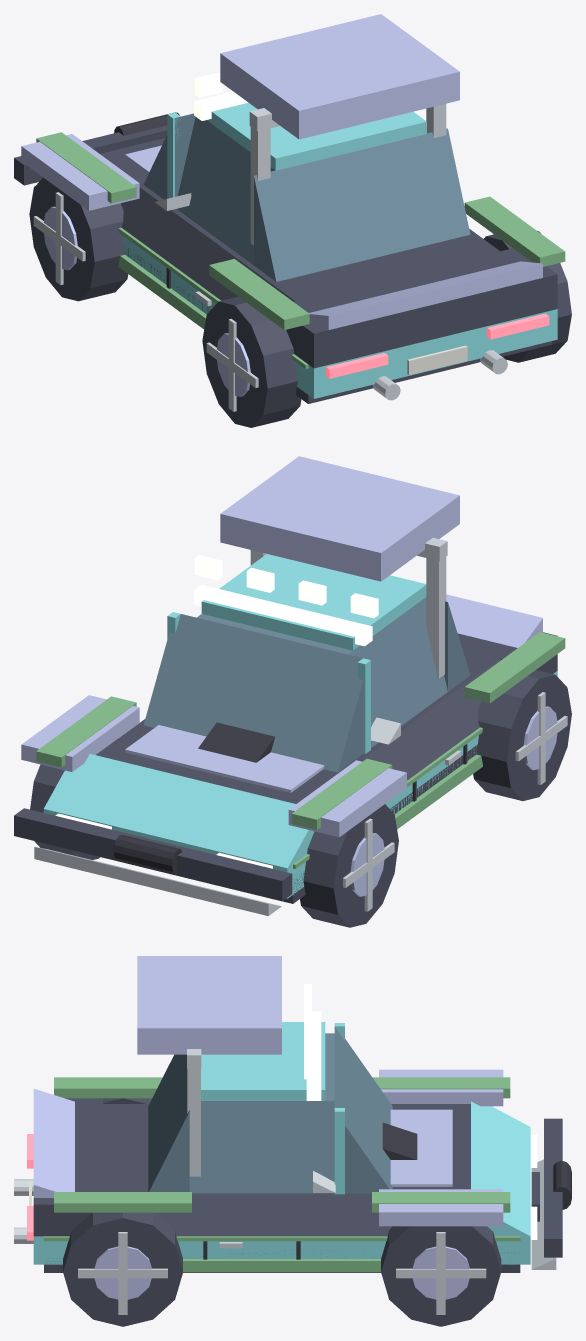
The model's file is stormtrail_x.glb.
3 views of the same model, one above another, from view 1: azimuth 30°, elevation 25°; view 2: azimuth 150°, elevation 25°; view 3: azimuth 270°, elevation 25° (orthographic). The views are drawn at different scales.
Visible parts, largest first — view 1: RearWindow.176, RoofTent.024, Tail.076, Wheel_RL.236, CabinSideL.073, Body.276, BodyUpper.073, Wheel_FL.236, Roof.276, ShoulderL.073, Ducktail.056, Fender-1.069 (+25 smaller); view 2: Windshield.176, RoofTent.024, Nose.073, Roof.276, Wheel_RL.236, BashBar.069, CabinSideL.073, Wheel_FL.236, Hood.272, ShoulderL.073, BodyUpper.073, Bumper.272 (+29 smaller); view 3: RoofTent.024, CabinSideR.073, ShoulderR.073, Wheel_RR.236, Wheel_FR.236, BodyUpper.073, Windshield.176, Roof.276, Nose.073, Body.276, RearWindow.176, Tail.076 (+25 smaller).
Boxes of the visible parts, x1,y1,x2,y2 form: RearWindow.176: [254, 128, 470, 281]; RoofTent.024: [220, 14, 459, 139]; Tail.076: [286, 248, 557, 368]; Wheel_RL.236: [202, 296, 301, 427]; CabinSideL.073: [177, 117, 274, 265]; Body.276: [122, 235, 557, 398]; BodyUpper.073: [100, 138, 499, 301]; Wheel_FL.236: [29, 177, 128, 301]; Roof.276: [207, 102, 426, 170]; ShoulderL.073: [121, 187, 294, 301]; Ducktail.056: [309, 261, 542, 329]; Fender-1.069: [21, 134, 139, 210]; Windshield.176: [143, 614, 363, 772]; RoofTent.024: [220, 456, 459, 581]; Nose.073: [44, 754, 314, 868]; Roof.276: [201, 554, 426, 650]; Wheel_RL.236: [473, 670, 571, 800]; BashBar.069: [14, 808, 292, 901]; CabinSideL.073: [348, 597, 447, 747]; Wheel_FL.236: [300, 804, 398, 927]; Hood.272: [125, 725, 324, 792]; ShoulderL.073: [360, 659, 500, 780]; BodyUpper.073: [96, 649, 499, 803]; Bumper.272: [34, 847, 281, 915]; RoofTent.024: [137, 956, 281, 1054]; CabinSideR.073: [189, 1101, 334, 1193]; ShoulderR.073: [158, 1195, 392, 1236]; Wheel_RR.236: [63, 1212, 182, 1326]; Wheel_FR.236: [381, 1226, 501, 1326]; BodyUpper.073: [103, 1104, 470, 1195]; Windshield.176: [334, 1027, 392, 1193]; Roof.276: [201, 1022, 325, 1100]; Nose.073: [471, 1101, 530, 1236]; Body.276: [33, 1236, 530, 1264]; RearWindow.176: [148, 1054, 189, 1191]; Tail.076: [33, 1098, 103, 1236].
Bounding box in the file's own units: 3.26 × 2.84 × 5.39.
